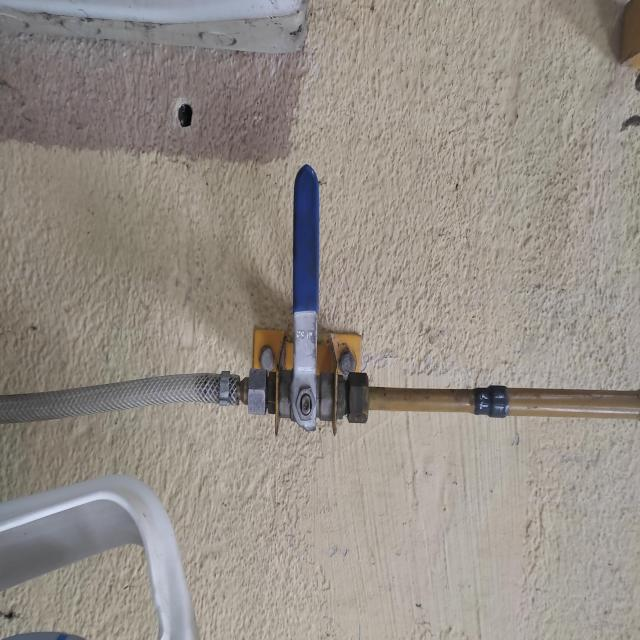closed_valve: (274, 162, 340, 436)
